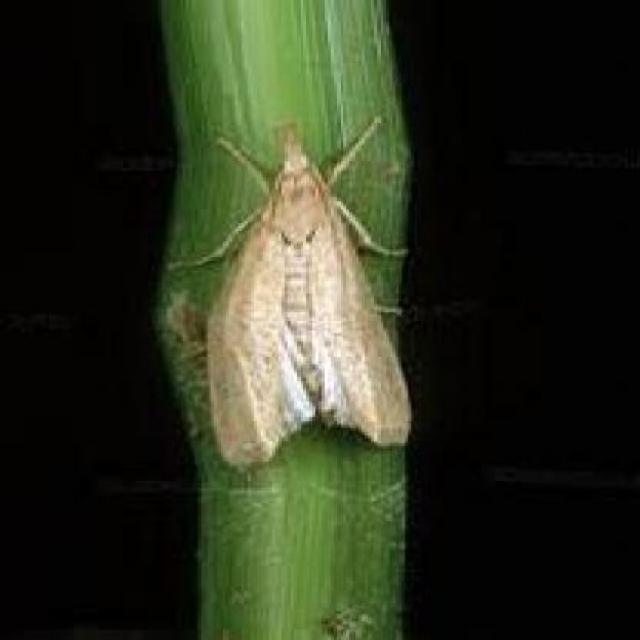stem-borer: (202, 115, 400, 463)
